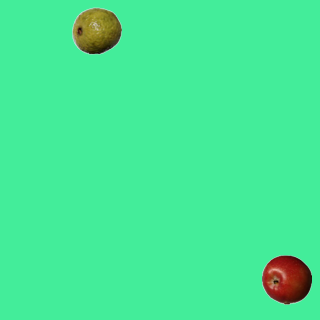Apple Braeburn: (261, 254, 311, 304)
Guava: (71, 5, 121, 55)
